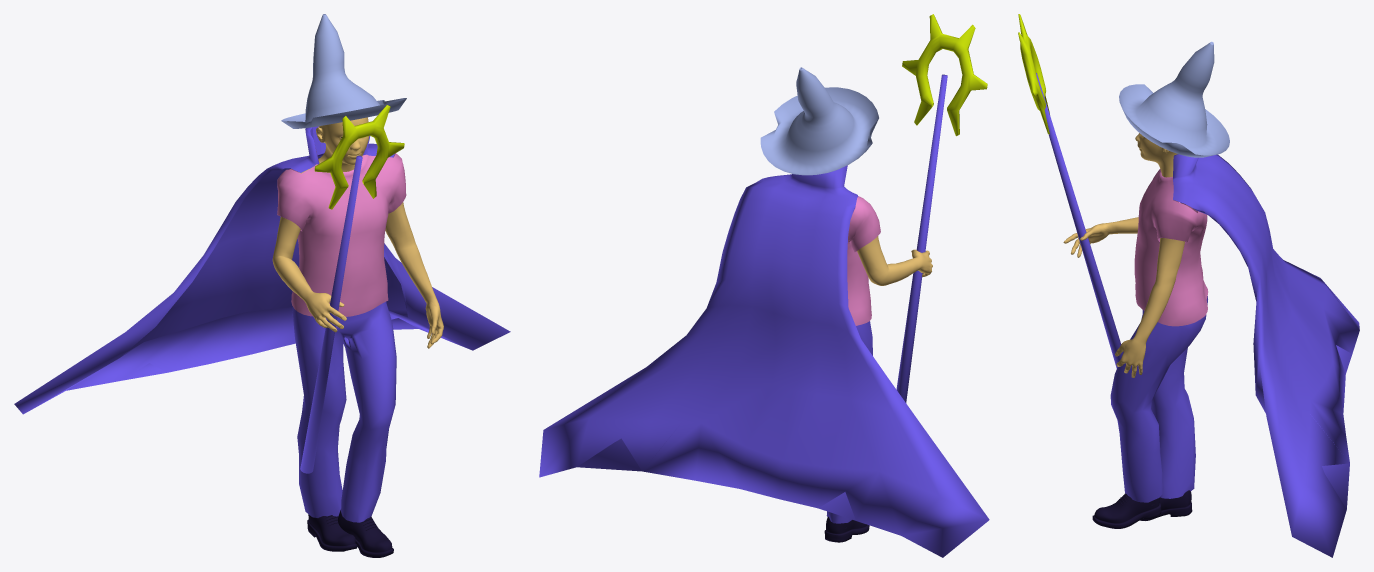
File: player_fbx.fbx
3 renders of one model, left to right at view 1: azimuth 30°, elevation 25°; view 2: azimuth 150°, elevation 25°; view 3: azimuth 270°, elevation 25°, orthographic. The views are drawn at different scales.
Parts seen in each view (by area): view 1: male_casualsuit04Mesh.002; view 2: male_casualsuit04Mesh.002; view 3: male_casualsuit04Mesh.002.
Boxes of the visible parts, box(x1,y1,x2,y2) form: male_casualsuit04Mesh.002: box(14, 14, 510, 557); male_casualsuit04Mesh.002: box(539, 14, 989, 557); male_casualsuit04Mesh.002: box(1018, 14, 1359, 557).
Bounding box in the file's own units: 500 × 499 × 320.
